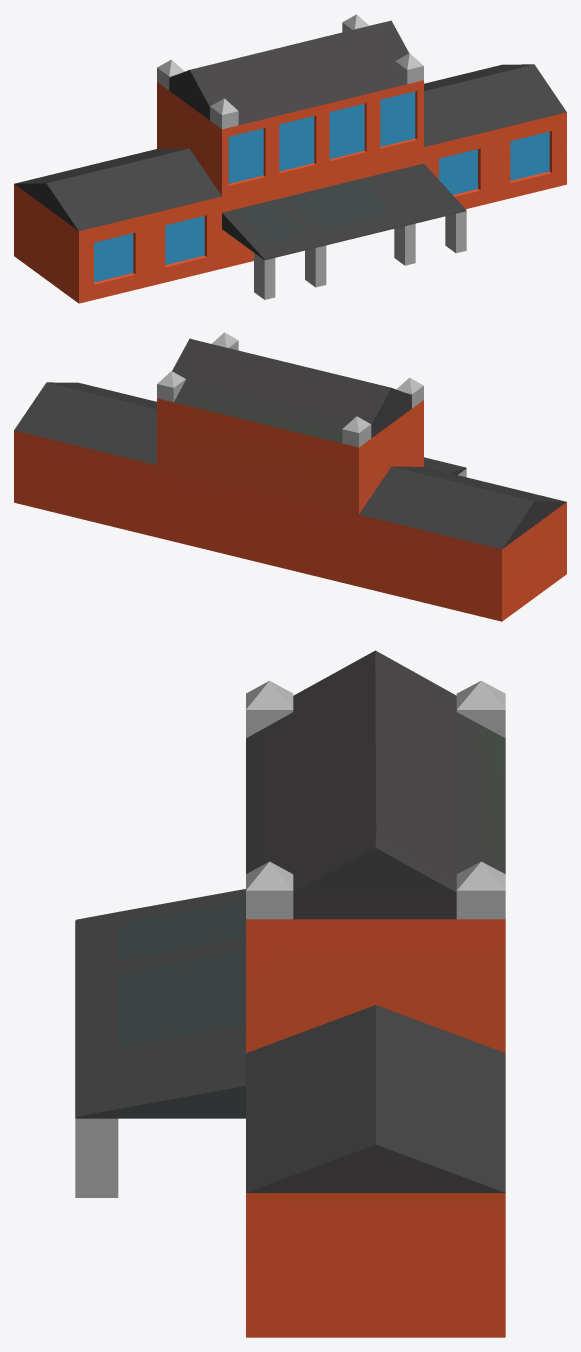
Rendered from Building3.fbx.
The picture shows the model from 3 angles, top to bottom: view 1: azimuth 30°, elevation 25°; view 2: azimuth 150°, elevation 25°; view 3: azimuth 270°, elevation 25°; orthographic projection. The views are drawn at different scales.
Visible parts, largest first — view 1: Station; view 2: Station; view 3: Station.
Boxes of the visible parts, x1,y1,x2,y2 form: Station: (14, 14, 566, 303); Station: (14, 332, 566, 621); Station: (75, 650, 505, 1337).
Bounding box in the file's own units: 2867 × 984 × 1095.
